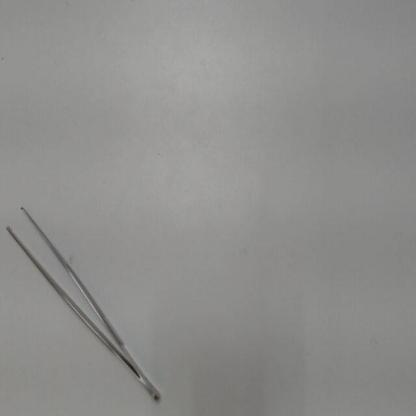Gillies Toothed Dissector: (1, 184, 164, 408)
